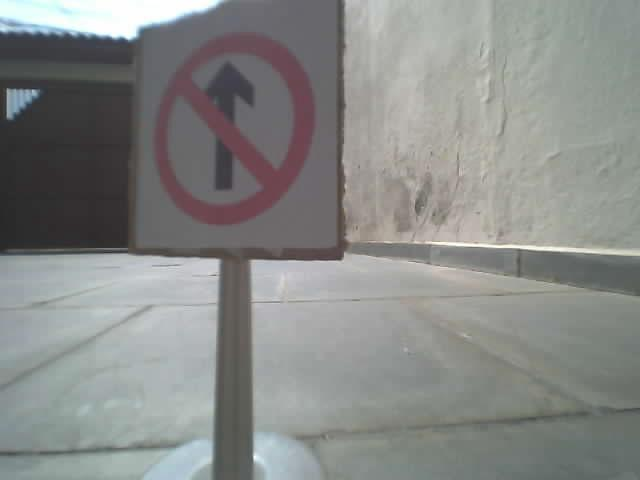R-3_sentido-proibido: (153, 31, 316, 222)
